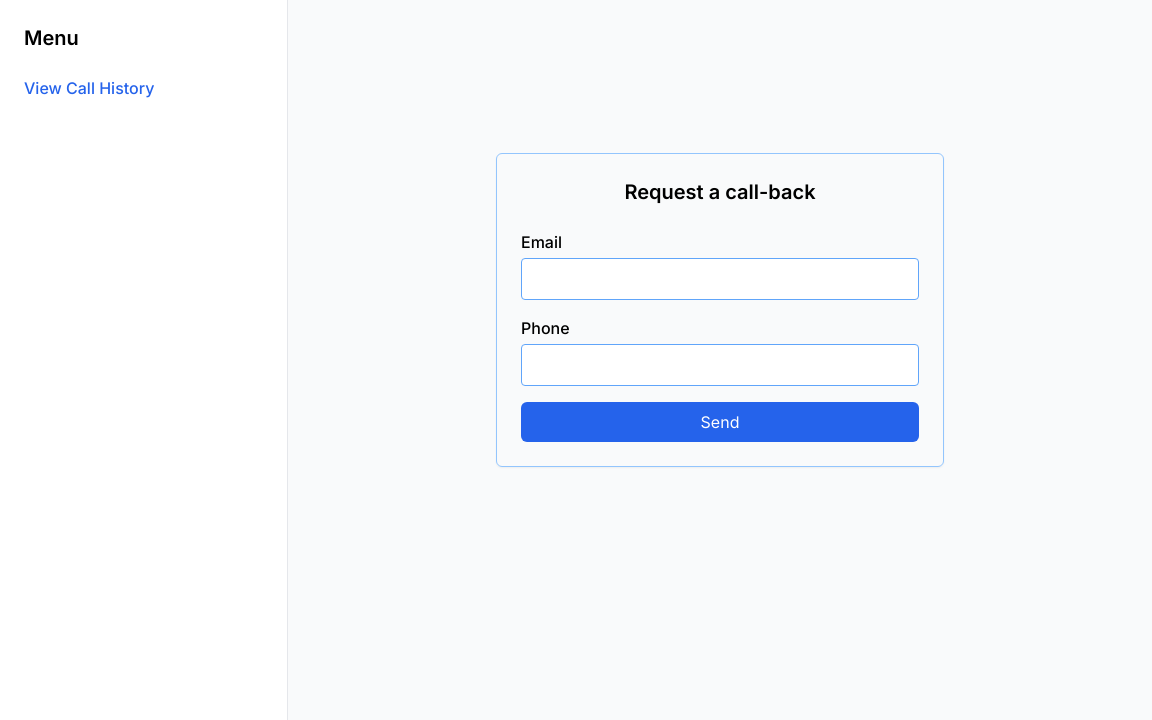
Test: RequestCallbackPage › shows validation errors
Click the button "Send".
click(720, 422)  # box [521,402,919,442]
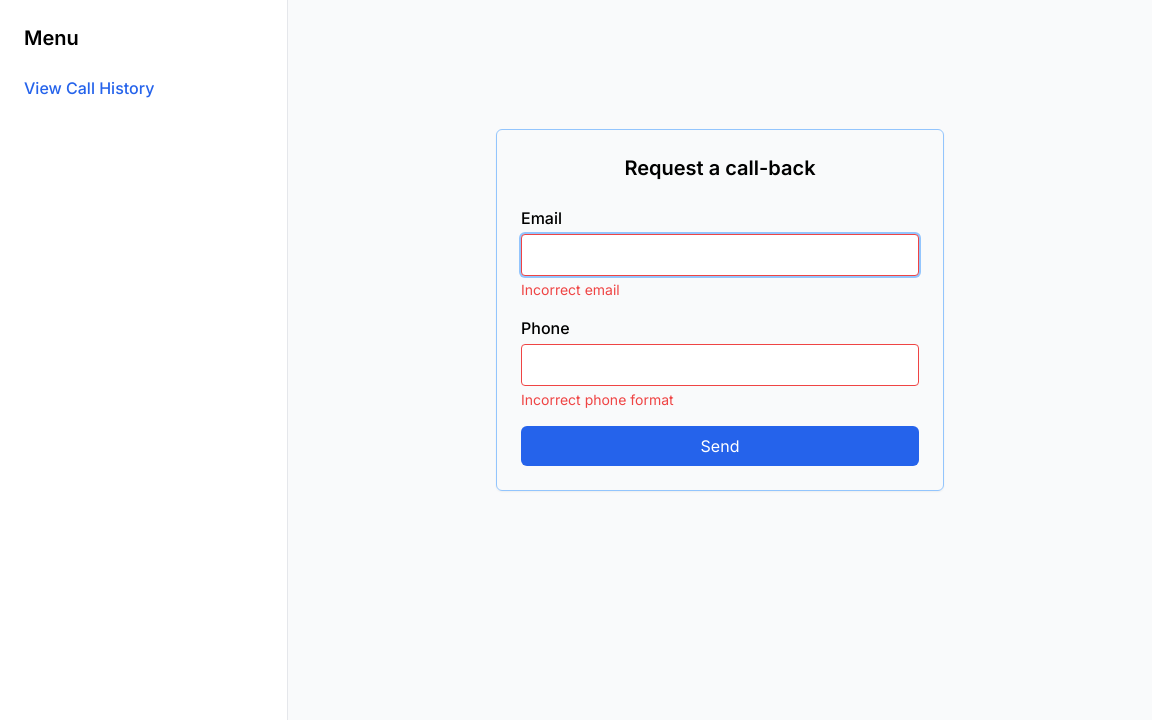
expect the text "Incorrect email" is shown: met, box [521,281,620,298]
expect the text "Incorrect phone format" is shown: met, box [521,391,674,408]
